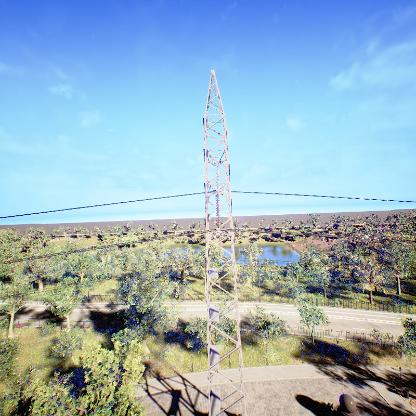tower: (194, 66, 252, 416)
